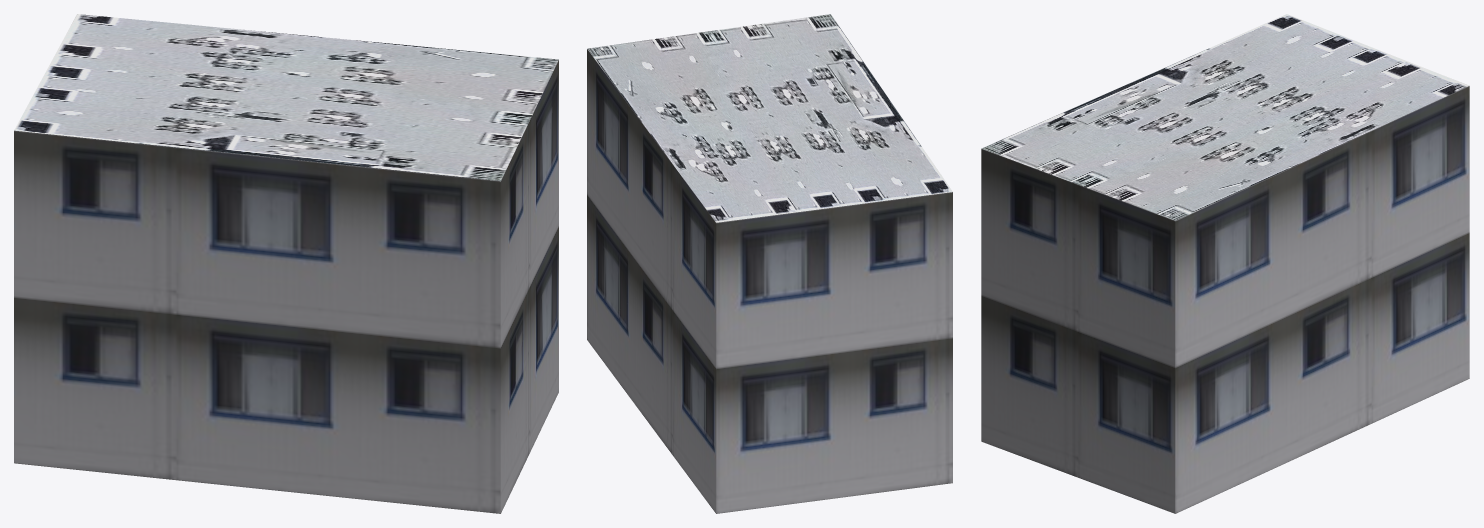
The model's file is ResTex__1404.fbx.
3 renders of one model, left to right at view 1: azimuth 30°, elevation 25°; view 2: azimuth 150°, elevation 25°; view 3: azimuth 270°, elevation 25°, orthographic. The views are drawn at different scales.
Visible parts, largest first — view 1: CityEngineMaterial_9_m, CityEngineMaterial_4_m; view 2: CityEngineMaterial_9_m, CityEngineMaterial_4_m; view 3: CityEngineMaterial_9_m, CityEngineMaterial_4_m.
Boxes of the visible parts, x1,y1,x2,y2 form: CityEngineMaterial_9_m: [14, 60, 558, 513]; CityEngineMaterial_4_m: [14, 14, 558, 181]; CityEngineMaterial_9_m: [587, 49, 952, 513]; CityEngineMaterial_4_m: [587, 14, 952, 222]; CityEngineMaterial_9_m: [981, 86, 1469, 513]; CityEngineMaterial_4_m: [982, 14, 1468, 220].
Size of the model in its own units: 9.09 by 6 by 9.06.
2 materials, 2 textured.
